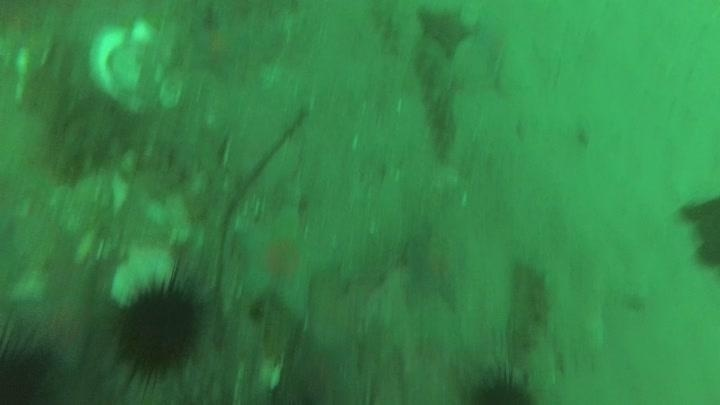echinus: (109, 272, 207, 384), (1, 322, 61, 405), (460, 364, 543, 405)
starfish: (230, 201, 337, 322), (6, 258, 109, 373), (400, 220, 473, 309), (184, 18, 254, 80), (416, 4, 478, 60)
